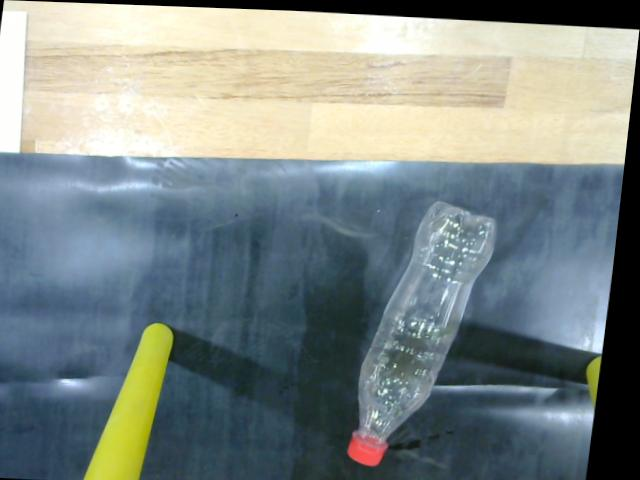bottle: (346, 182, 527, 466)
